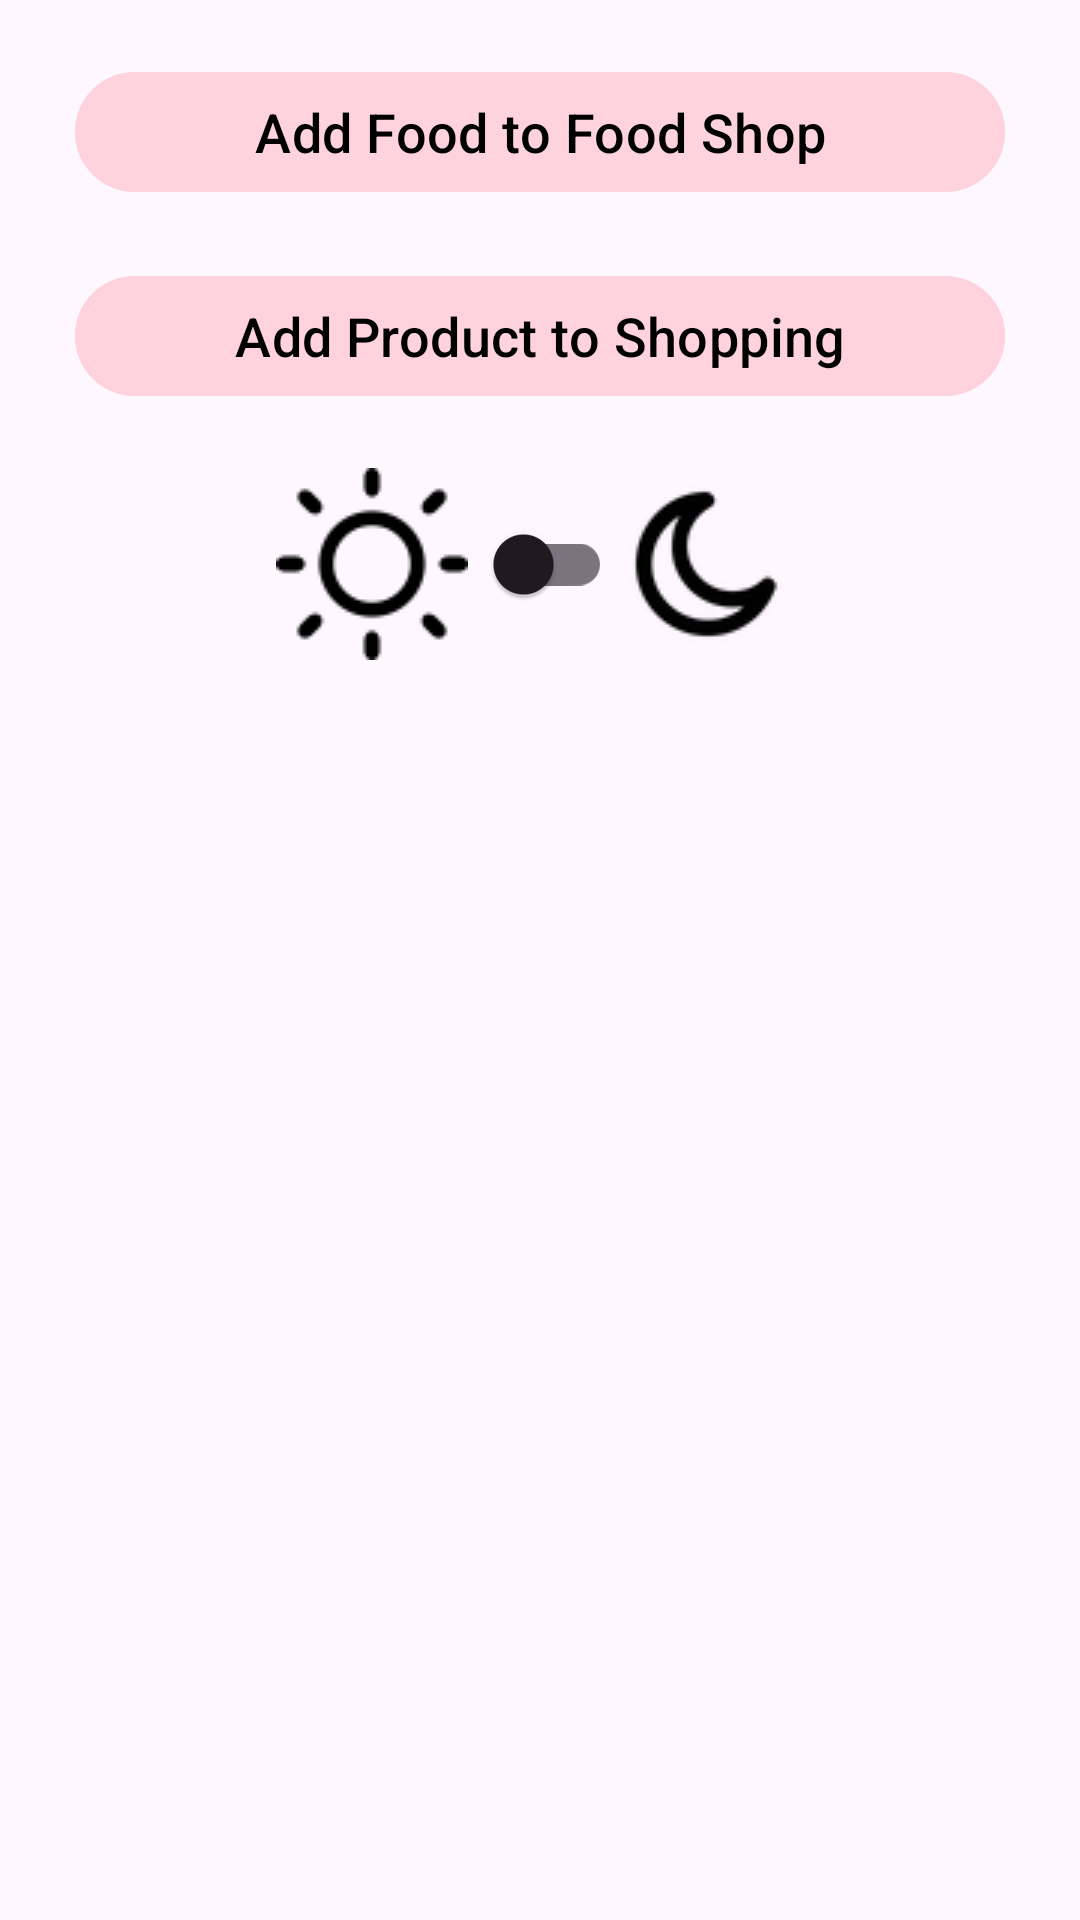

Where icons sit on this 1080w x 1920h app screen, as (x1, y1, x2, y2):
darkmode: (635, 491, 778, 637)
